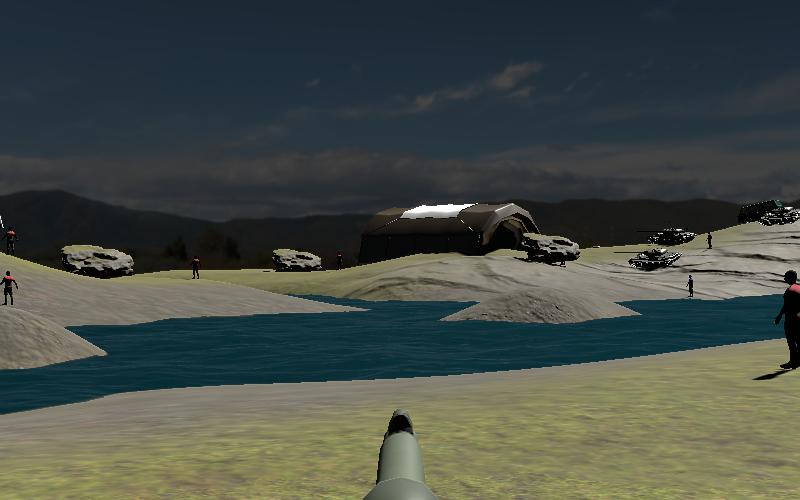Human: (774, 268, 800, 371)
Tank: (613, 246, 685, 272)
